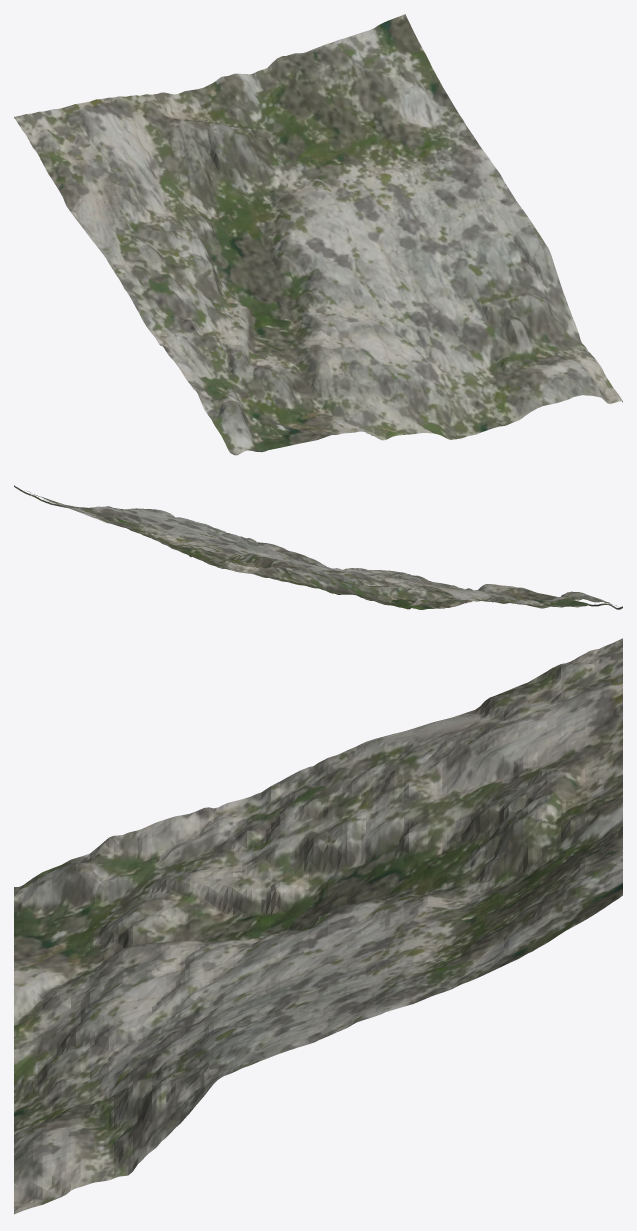
3 renders of one model, top to bottom at view 1: azimuth 30°, elevation 25°; view 2: azimuth 150°, elevation 25°; view 3: azimuth 270°, elevation 25°, orthographic. The views are drawn at different scales.
Size of the model in its own units: 250 by 140 by 241.
1 material, 1 textured.
